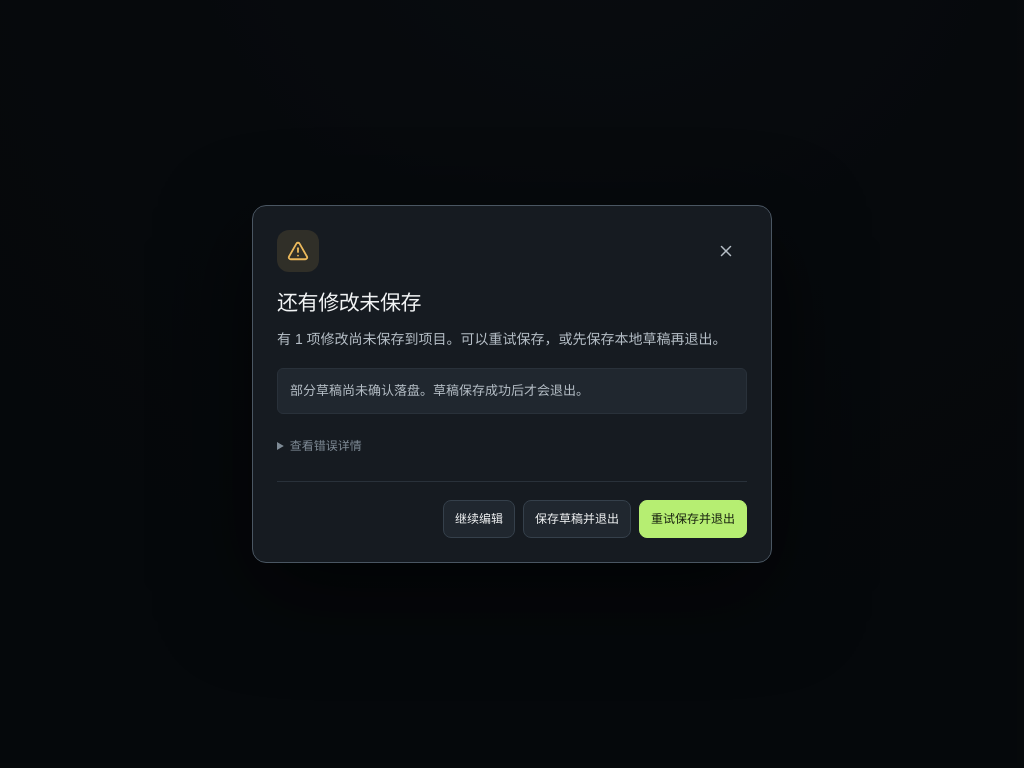
Test: keeps the dialog open after failed save and prevents duplicate actions
Click the button "重试保存并退出": (693, 519) [639, 500, 747, 538]
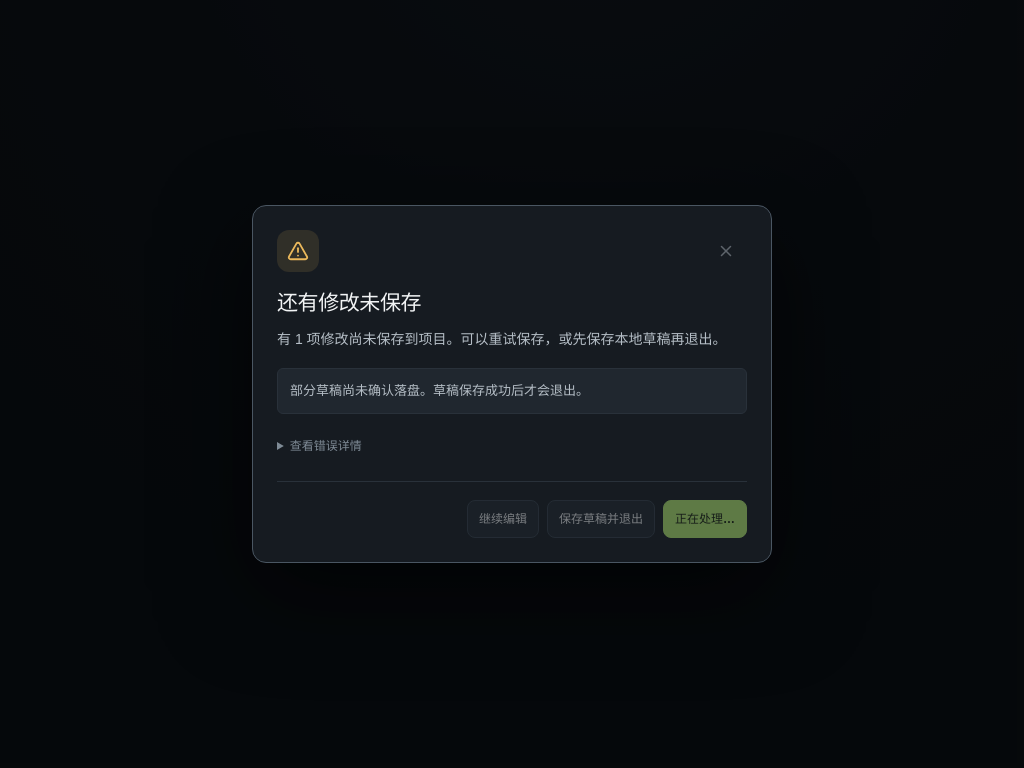
Click the button named "重试保存并退出": (705, 519) [663, 500, 747, 538]
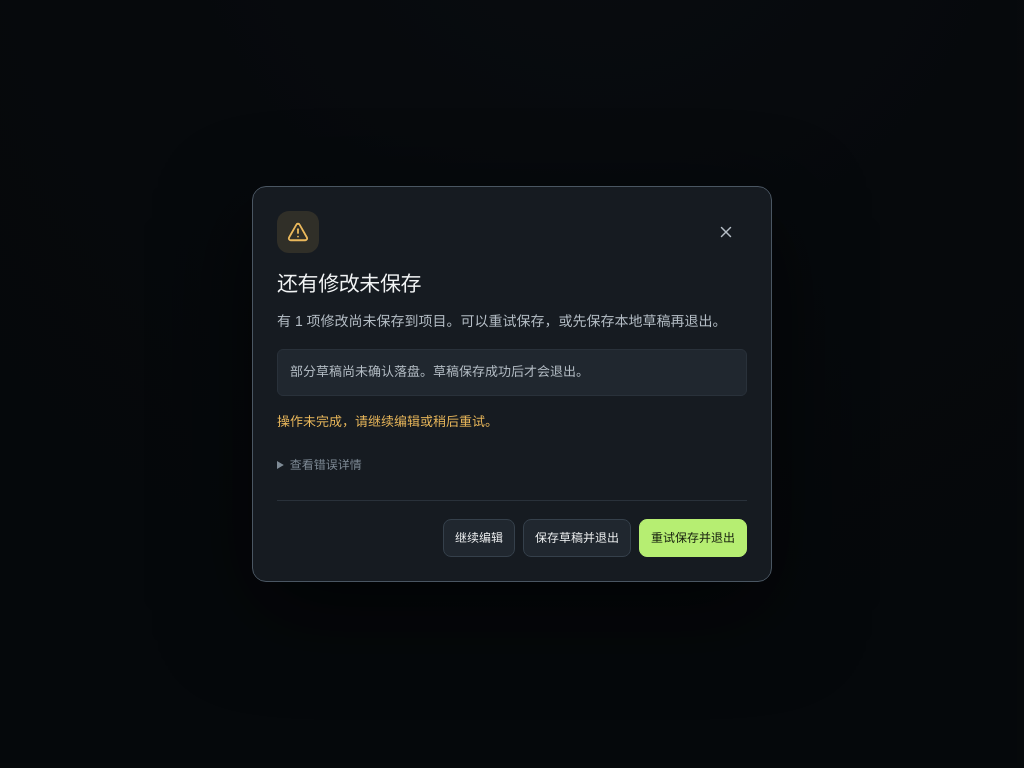
Expected: the dialog is shown, [252, 186, 772, 582]
Now the message "操作未完成，请继续编辑或稍后重试。" is shown, box [277, 414, 498, 429]
